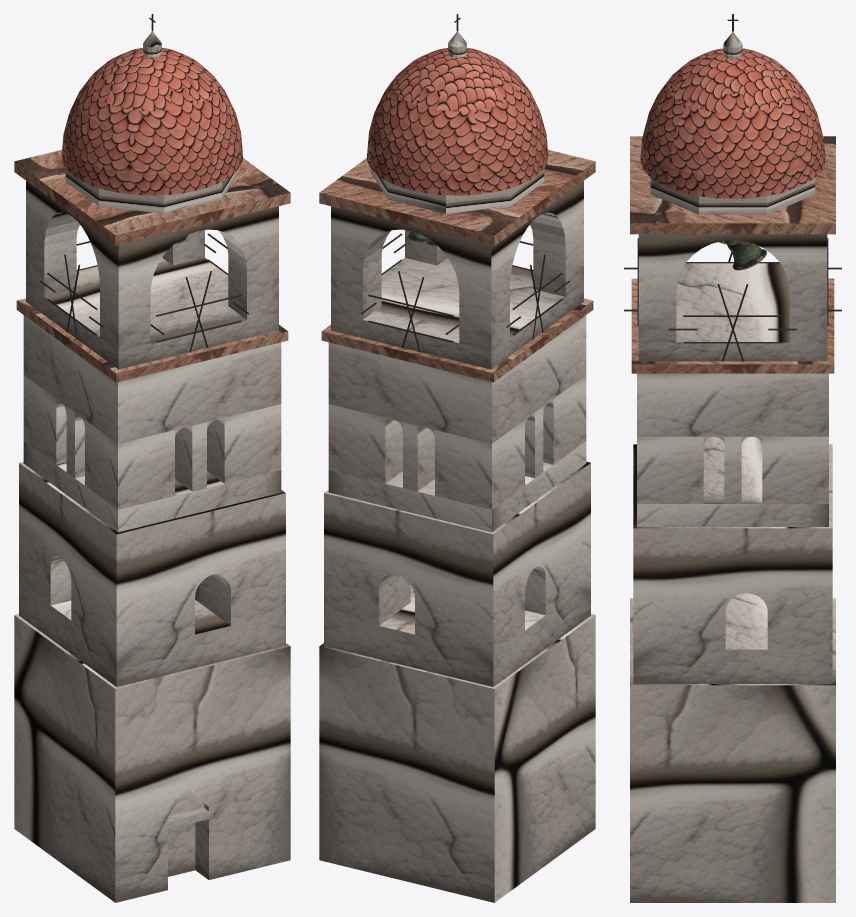
Rendered from claude_campanile.fbx.
The picture shows the model from 3 angles, left to right: view 1: azimuth 30°, elevation 25°; view 2: azimuth 150°, elevation 25°; view 3: azimuth 270°, elevation 25°; orthographic projection.
Visible parts, largest first — view 1: L1_Basamento, L2_Mediano, L4_Cella, L5_Cupola, L3_Top_Solida, L5_Cornicione, L3_Base_Solida, L3_Grid_XA_YA, L3_Grid_XB_YA, L4_Cornice_Base, L3_Grid_XA_YB, L5_Tamburo (+2 smaller); view 2: L1_Basamento, L2_Mediano, L4_Cella, L5_Cupola, L3_Top_Solida, L5_Cornicione, L3_Base_Solida, L3_Grid_XA_YB, L3_Grid_XB_YB, L4_Cornice_Base, L3_Grid_XA_YA, L5_Tamburo (+2 smaller); view 3: L1_Basamento, L2_Mediano, L4_Cella, L5_Cupola, L3_Top_Solida, L5_Cornicione, L3_Base_Solida, L3_Grid_XB_YA, L3_Grid_XB_YB, L4_Cornice_Base, L5_Tamburo, L3_Grid_XB_YC (+1 smaller).
Boxes of the visible parts, x1=… form: L1_Basamento: x1=14, y1=614, x2=290, y2=902; L2_Mediano: x1=19, y1=461, x2=285, y2=686; L4_Cella: x1=26, y1=181, x2=278, y2=369; L5_Cupola: x1=61, y1=48, x2=243, y2=195; L3_Top_Solida: x1=23, y1=315, x2=281, y2=443; L5_Cornicione: x1=14, y1=150, x2=290, y2=245; L3_Base_Solida: x1=23, y1=441, x2=281, y2=532; L3_Grid_XA_YA: x1=85, y1=420, x2=174, y2=509; L3_Grid_XB_YA: x1=207, y1=404, x2=281, y2=483; L4_Cornice_Base: x1=16, y1=298, x2=288, y2=382; L3_Grid_XA_YB: x1=23, y1=375, x2=66, y2=464; L5_Tamburo: x1=65, y1=169, x2=239, y2=213; L1_Basamento: x1=319, y1=614, x2=595, y2=902; L2_Mediano: x1=324, y1=461, x2=590, y2=686; L4_Cella: x1=331, y1=181, x2=583, y2=369; L5_Cupola: x1=366, y1=48, x2=548, y2=195; L3_Top_Solida: x1=328, y1=315, x2=586, y2=443; L5_Cornicione: x1=319, y1=150, x2=595, y2=245; L3_Base_Solida: x1=328, y1=441, x2=586, y2=532; L3_Grid_XA_YB: x1=435, y1=420, x2=524, y2=509; L3_Grid_XB_YB: x1=328, y1=404, x2=402, y2=483; L4_Cornice_Base: x1=321, y1=298, x2=593, y2=382; L3_Grid_XA_YA: x1=543, y1=375, x2=586, y2=464; L5_Tamburo: x1=370, y1=169, x2=544, y2=213; L1_Basamento: x1=630, y1=598, x2=835, y2=902; L2_Mediano: x1=633, y1=444, x2=832, y2=683; L4_Cella: x1=638, y1=234, x2=827, y2=361; L5_Cupola: x1=640, y1=48, x2=825, y2=198; L3_Top_Solida: x1=637, y1=373, x2=828, y2=436; L5_Cornicione: x1=630, y1=136, x2=835, y2=234; L3_Base_Solida: x1=637, y1=436, x2=828, y2=526; L3_Grid_XB_YA: x1=637, y1=436, x2=703, y2=503; L3_Grid_XB_YB: x1=762, y1=436, x2=828, y2=503; L4_Cornice_Base: x1=631, y1=278, x2=834, y2=373; L5_Tamburo: x1=650, y1=177, x2=815, y2=214; L3_Grid_XB_YC: x1=724, y1=436, x2=741, y2=503.
Size of the model in its own units: 600 by 2718 by 635.
Materials: 7 (6 with a texture image).
